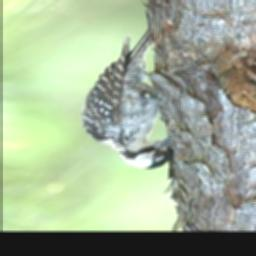Woodpecker: (78, 29, 174, 169)
